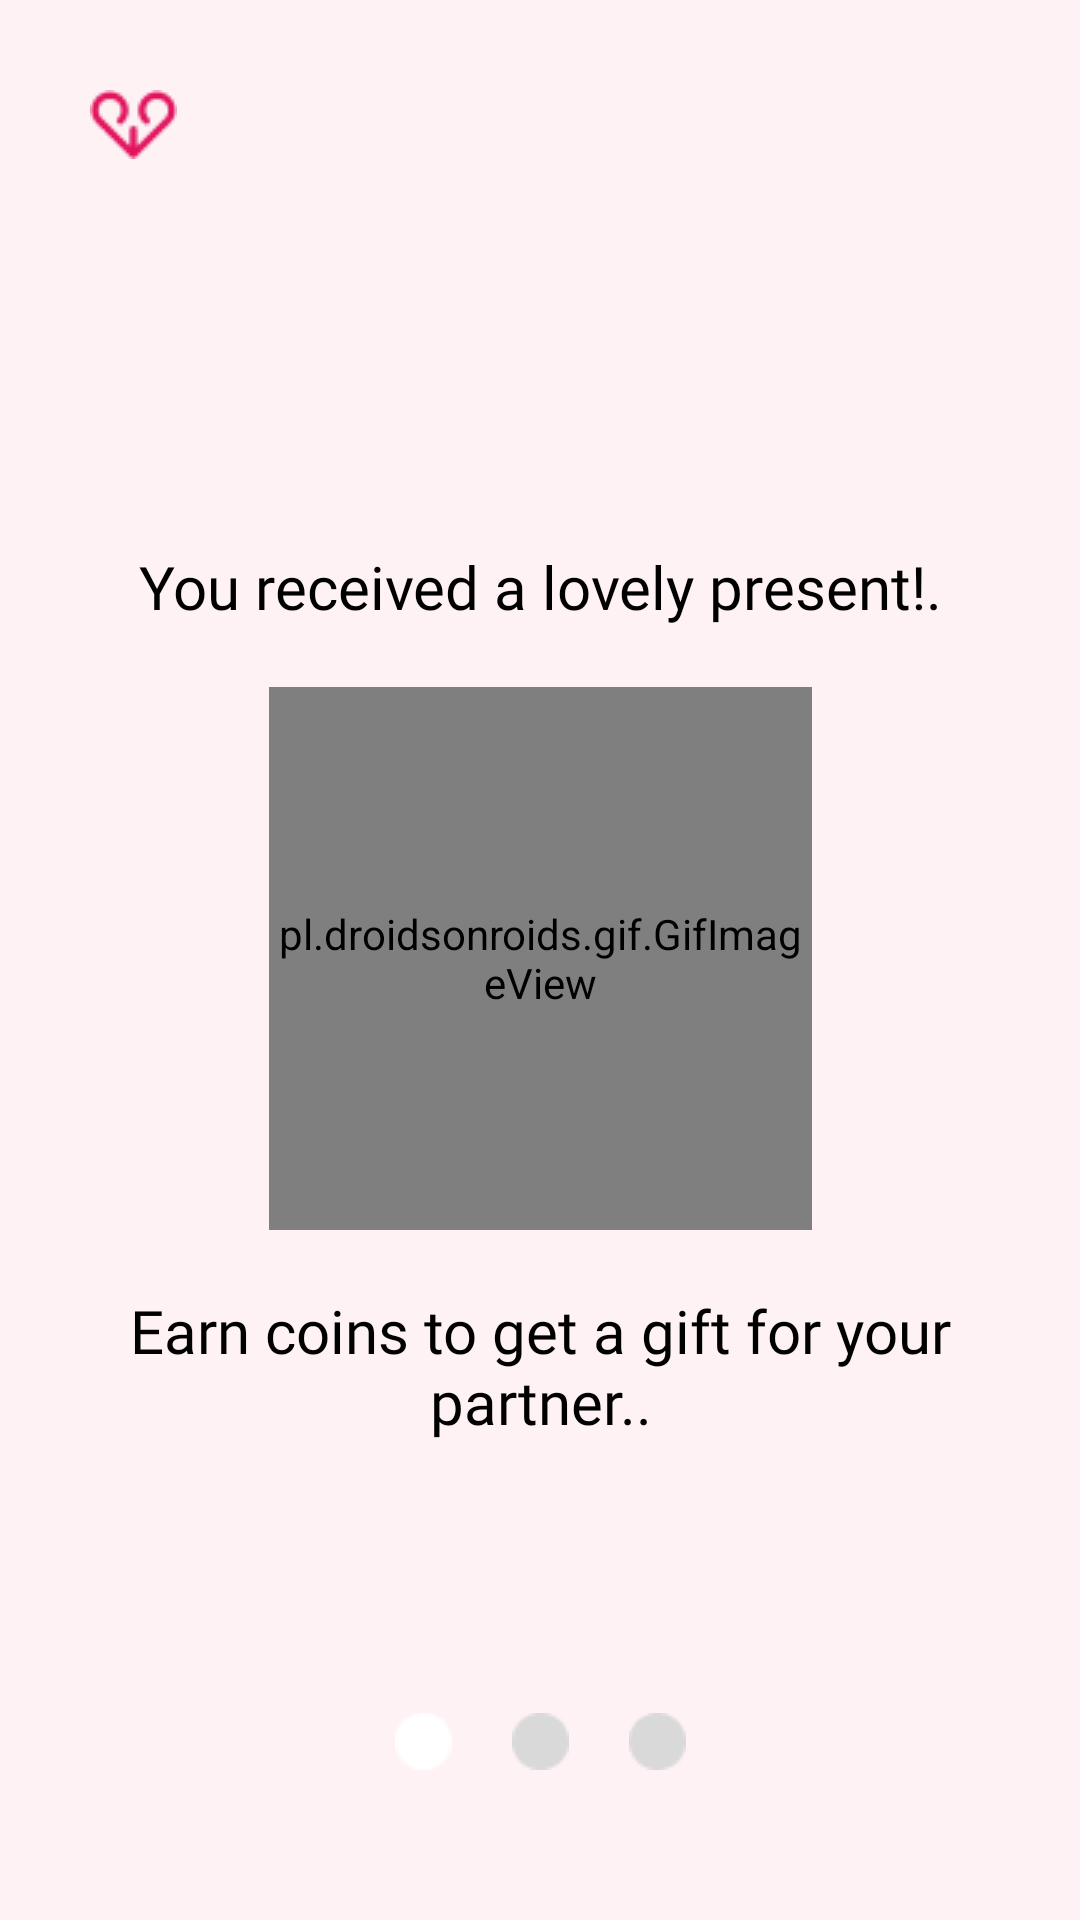

Locate icon controls on the screen. Image size 1080x1920, boxes as region(x1, y1, x2, y2).
mini heart: region(90, 90, 177, 159)
